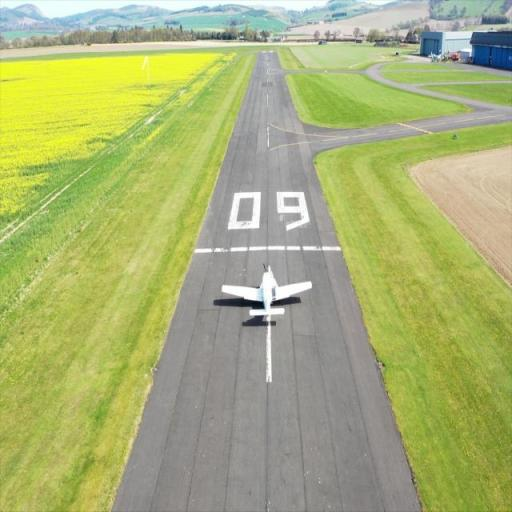uav: (215, 260, 316, 332)
